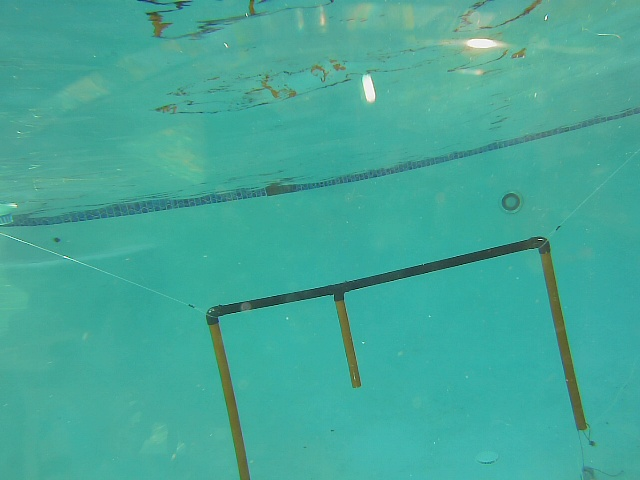Gate: (536, 248, 588, 431), (204, 318, 252, 480), (331, 294, 363, 391)
